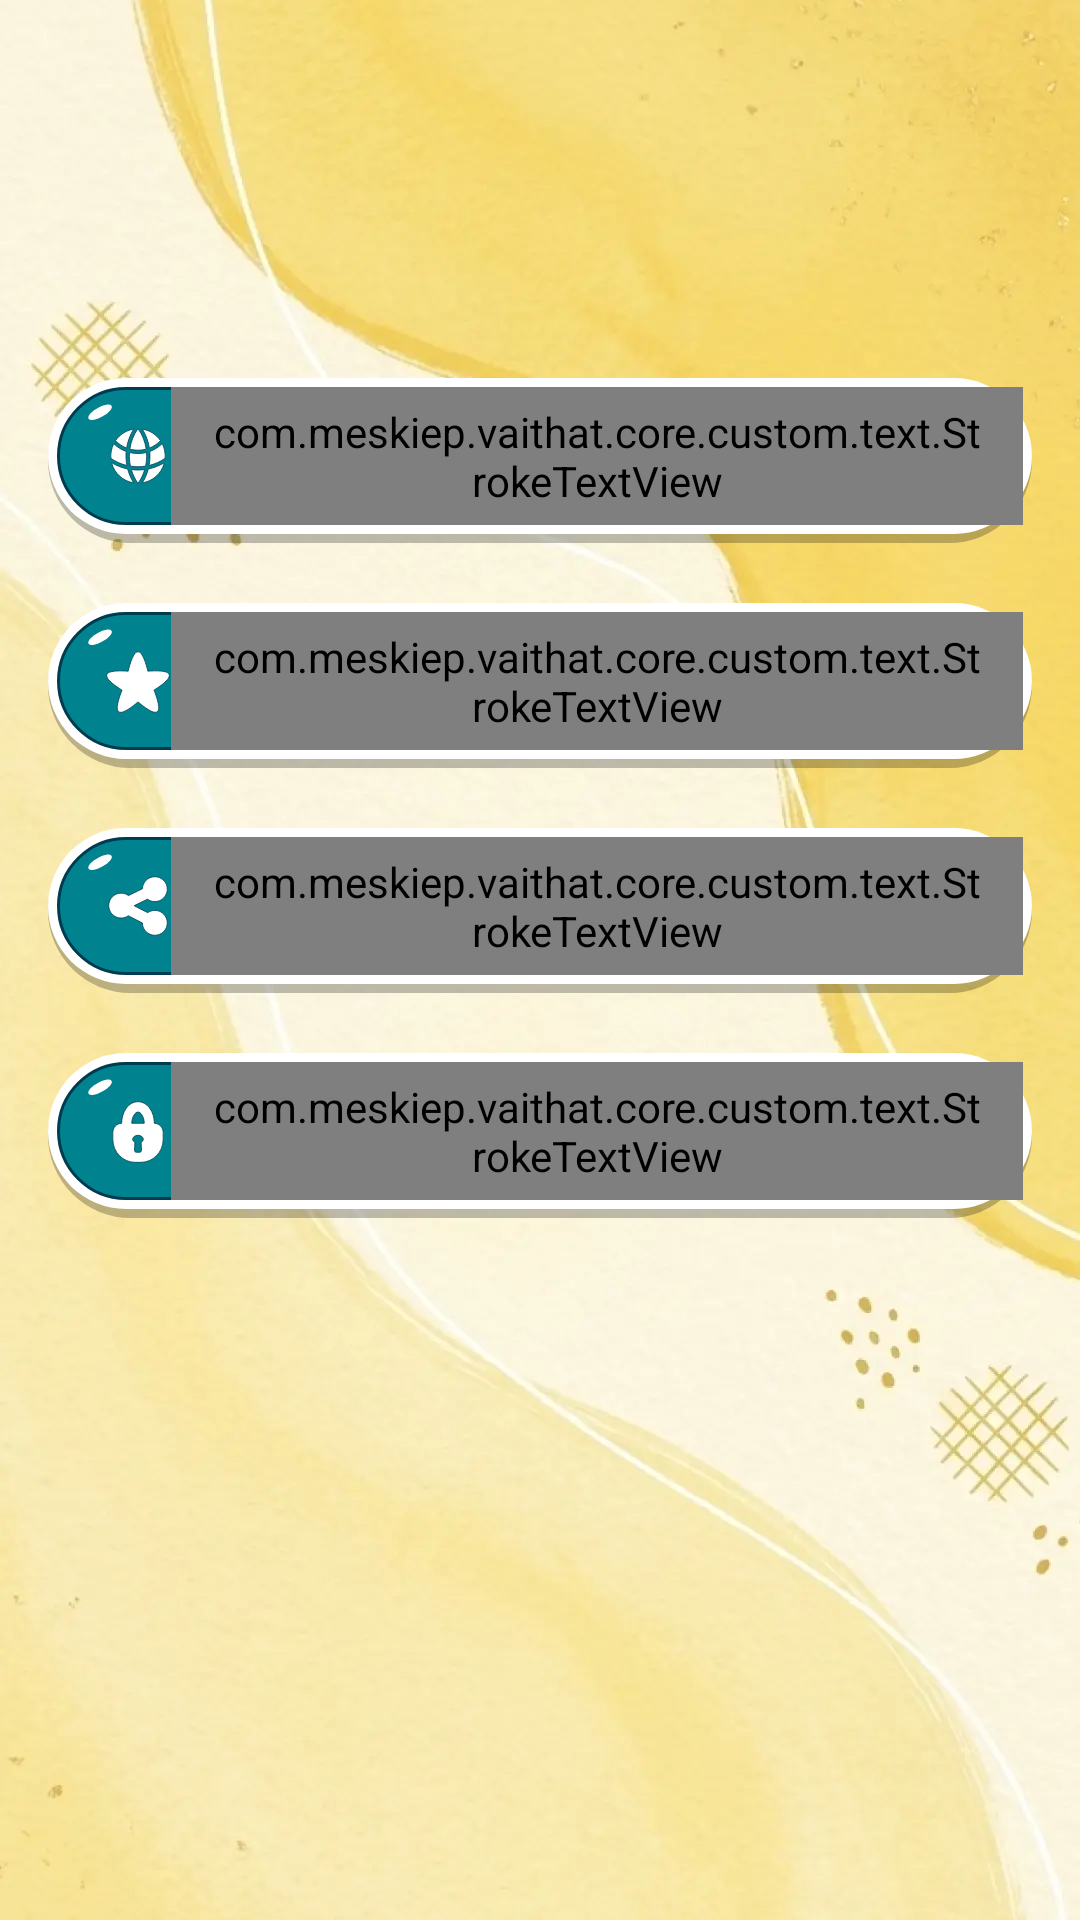

Icons on this 1080×1920 Android screen, each with the point to tap as (x,y):
settings language: (138,456)
settings policy: (138,1132)
settings rate: (138,682)
settings share: (138,906)
